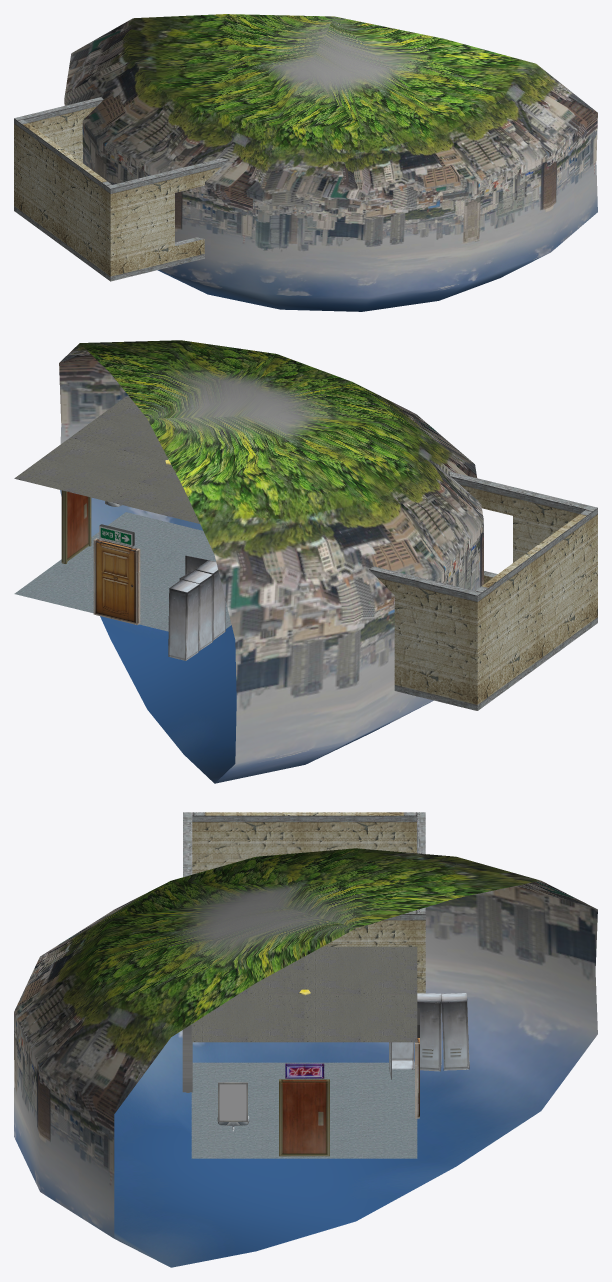
File: Hotel.glb
3 renders of one model, top to bottom at view 1: azimuth 30°, elevation 25°; view 2: azimuth 150°, elevation 25°; view 3: azimuth 270°, elevation 25°, orthographic. The views are drawn at different scales.
Parts seen in each view (by area): view 1: Hotel; view 2: Hotel; view 3: Hotel.
Boxes of the visible parts, box(x1,y1,x2,y2) form: Hotel: box(14, 14, 597, 311); Hotel: box(14, 340, 597, 783); Hotel: box(14, 812, 597, 1267).
Size of the model in its own units: 154 by 74.62 by 135.
19 materials, 18 textured.
